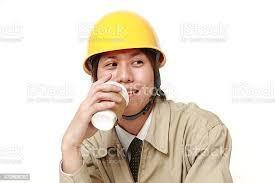helmet: (83, 11, 167, 75)
